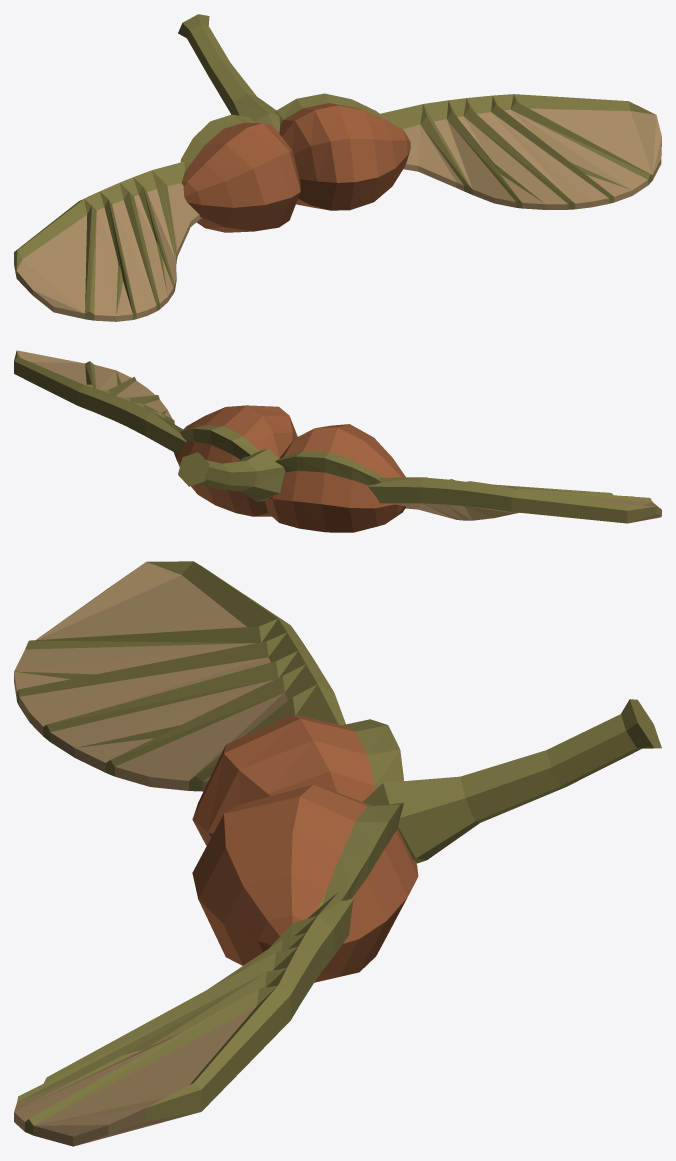
The model's file is sycamore-seed-24e5a2.glb.
3 views of the same model, one above another, from view 1: azimuth 30°, elevation 25°; view 2: azimuth 150°, elevation 25°; view 3: azimuth 270°, elevation 25° (orthographic). The views are drawn at different scales.
Parts seen in each view (by area): view 1: key-mesh; view 2: key-mesh; view 3: key-mesh.
Part boxes in pixels (x1,y1,x2,y2): key-mesh: (14,14,661,321); key-mesh: (14,350,661,532); key-mesh: (14,561,661,1146).
Bounding box in the file's own units: 3.5 × 0.7048 × 1.76.
